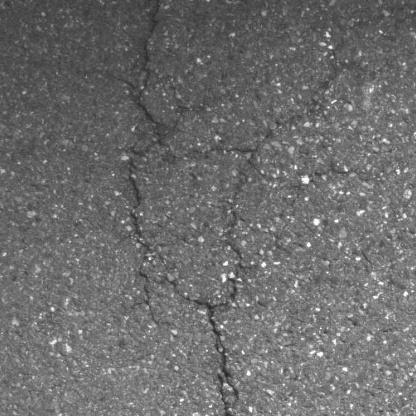Cracks: (161, 239, 248, 416), (115, 0, 167, 130), (126, 137, 160, 324), (215, 137, 268, 226)
